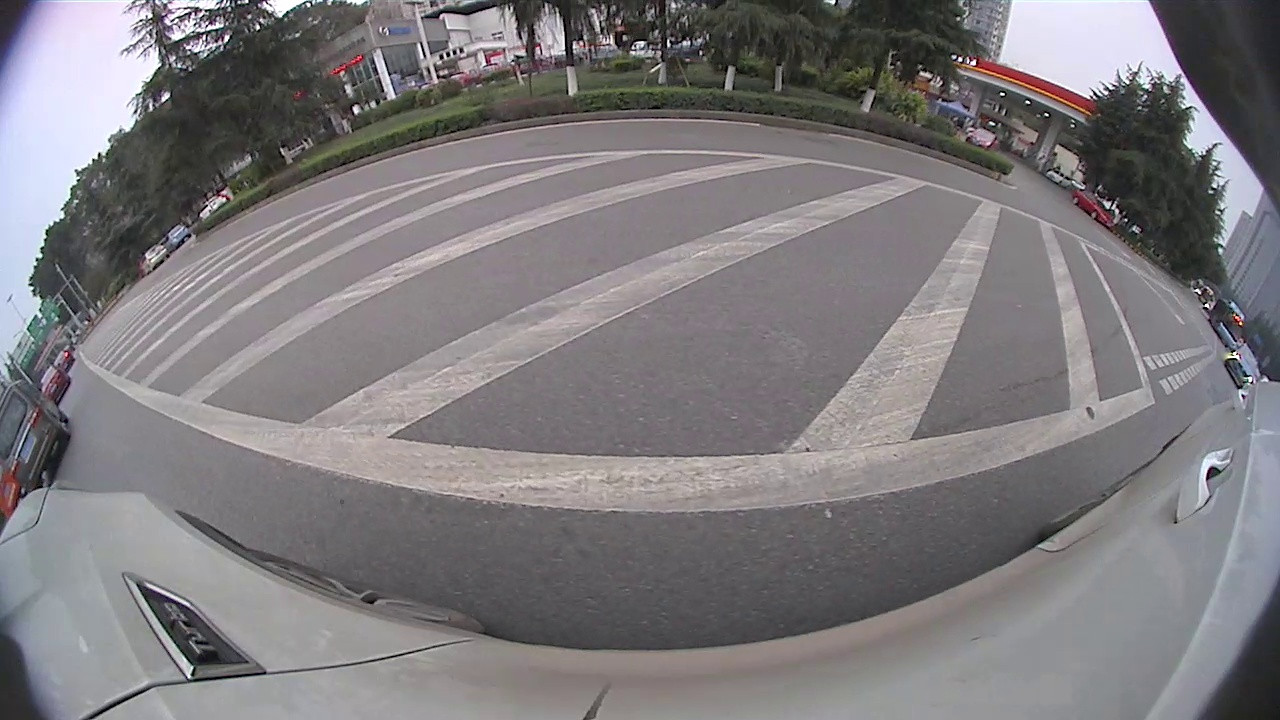car: (438, 2, 822, 198), (274, 81, 445, 167), (96, 176, 216, 280), (1103, 293, 1208, 411), (991, 180, 1077, 262), (0, 306, 69, 403), (1097, 264, 1156, 303)
front: (747, 144, 801, 201), (365, 115, 396, 147), (131, 237, 155, 269), (1057, 242, 1073, 260)
rear: (491, 125, 551, 184), (289, 140, 310, 166), (1024, 221, 1042, 242)
